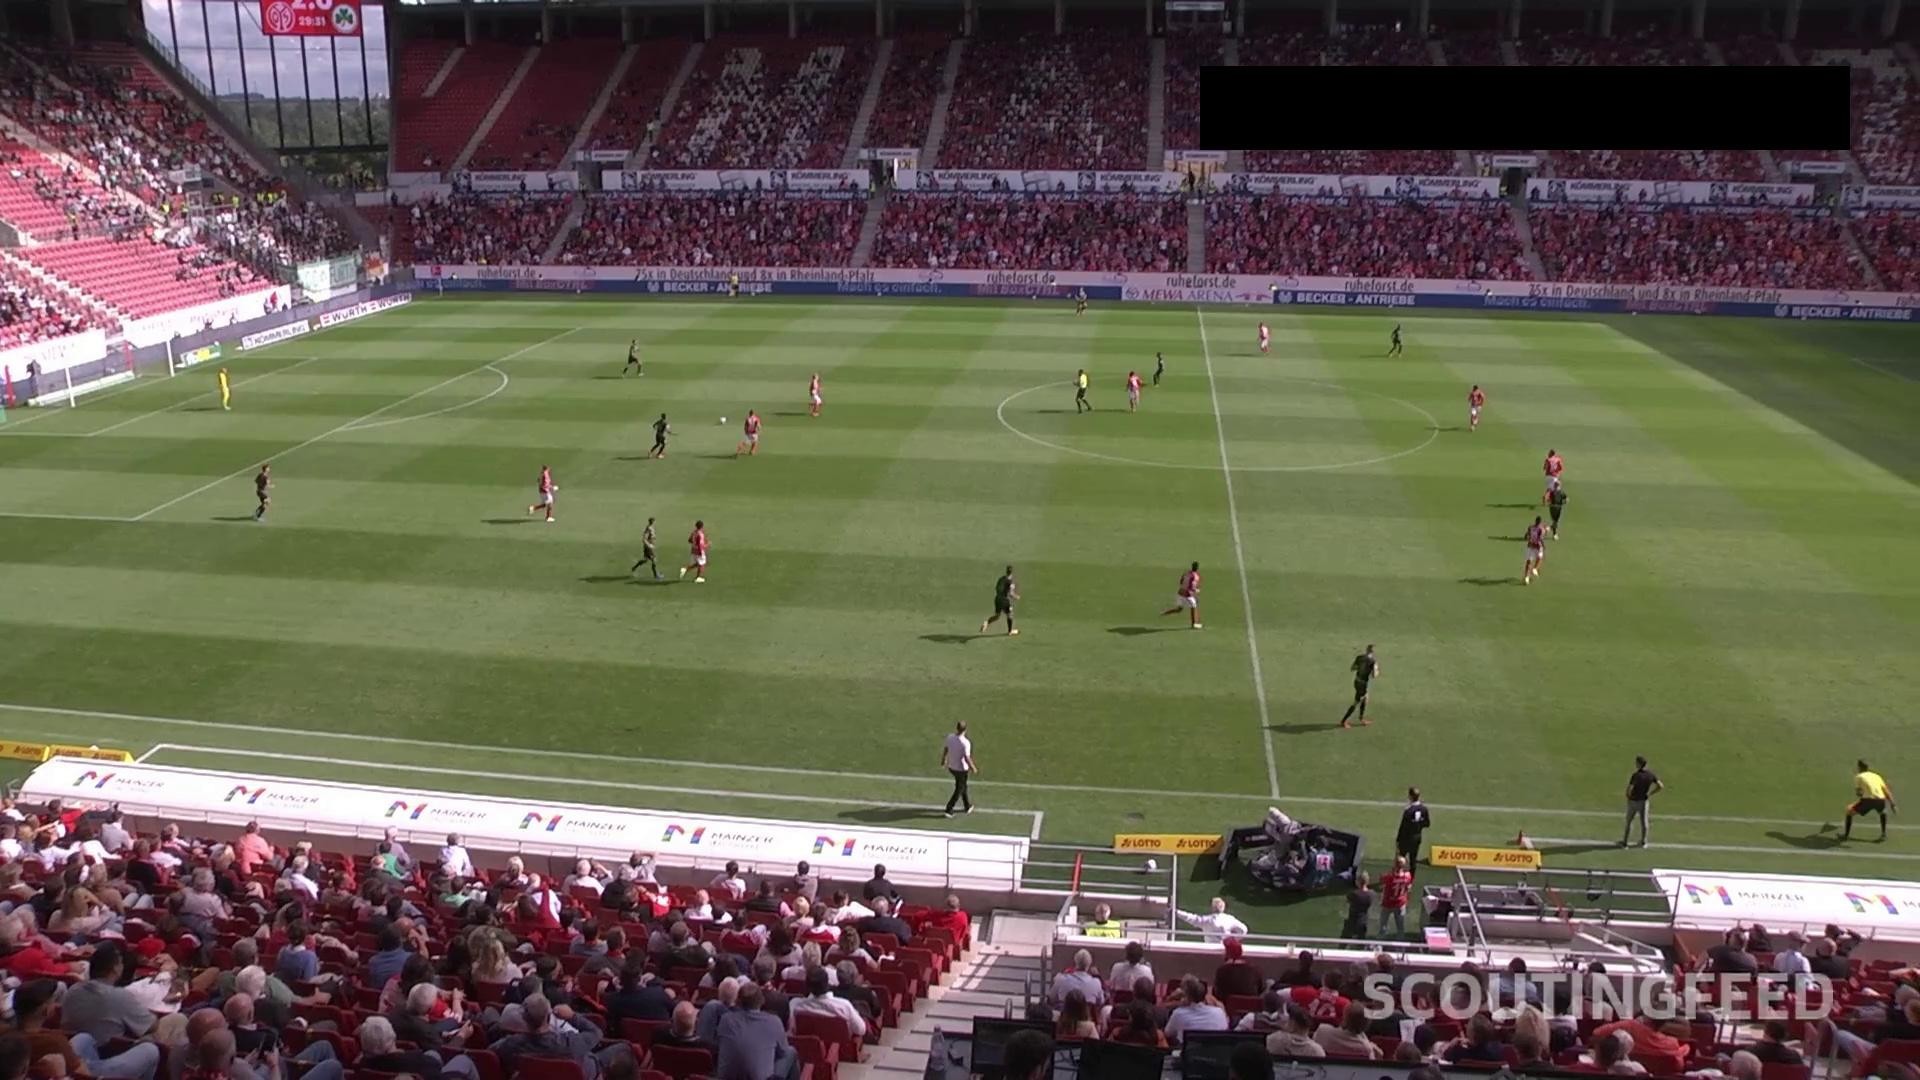Location-of-ball: (707, 406, 744, 440)
